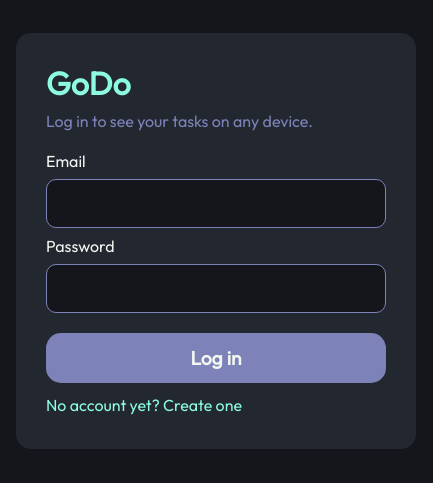
Test: LoginPage › switches to registration and enforces the password length
Click the button "No account yet? Create one" at (216, 405), box [46,391,386,419]
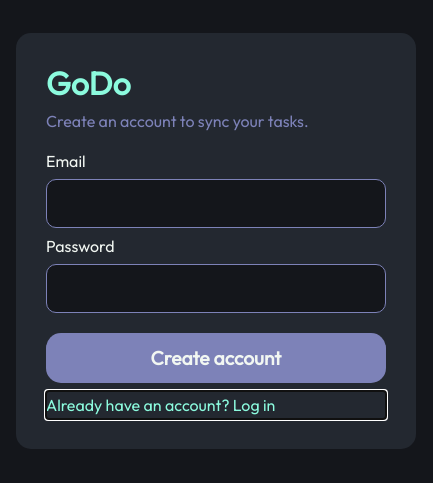
Type "a@example.com" into the field labelled "Email" at (216, 204), box [46,179,386,228]
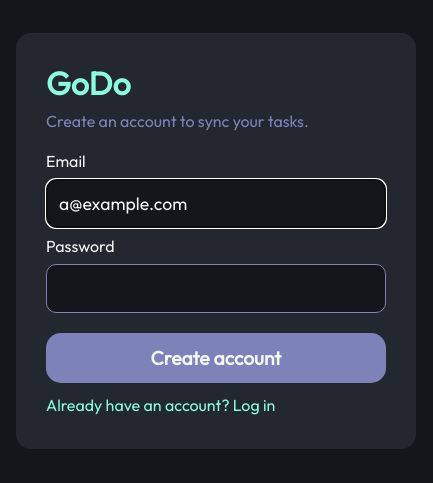
Type "short" into the password field labelled "Password" at (216, 288), box [46,264,386,313]
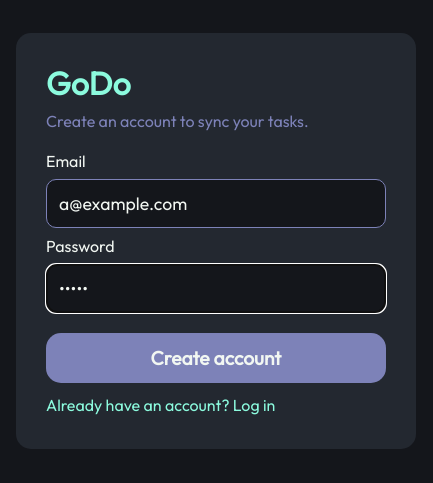
Click the button "Create account" at (216, 358), box [46,333,386,383]
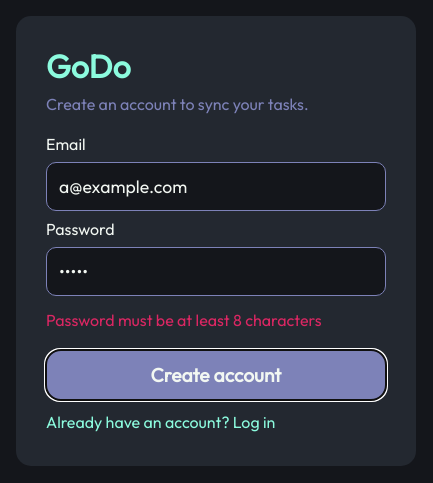
Check: the text "Password must be at least 8 characters" is shown, box [46,310,322,330]
